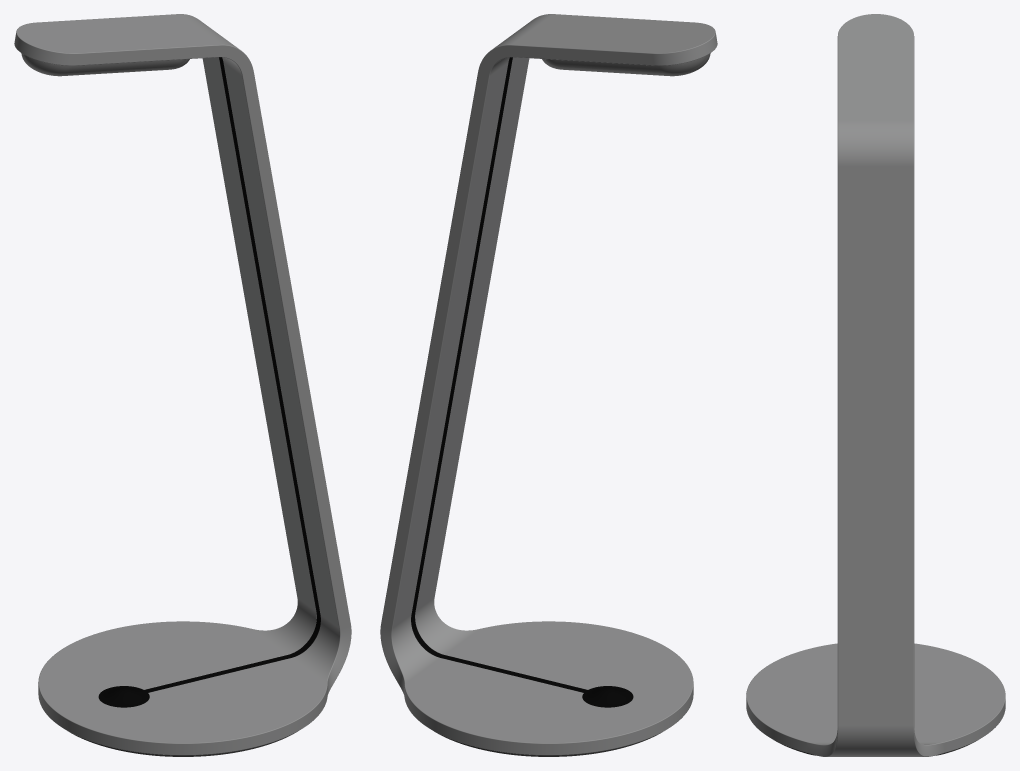
The model's file is lamp.glb.
3 views of the same model, side by side, from view 1: azimuth 30°, elevation 25°; view 2: azimuth 150°, elevation 25°; view 3: azimuth 270°, elevation 25° (orthographic). The views are drawn at different scales.
Parts seen in each view (by area): view 1: bend lamp v3.1 (×3); view 2: bend lamp v3.1 (×3); view 3: bend lamp v3.1.
Boxes of the visible parts, x1=… form: bend lamp v3.1 (×3): x1=14, y1=14, x2=351, y2=755; bend lamp v3.1 (×3): x1=380, y1=14, x2=717, y2=755; bend lamp v3.1: x1=746, y1=14, x2=1005, y2=756.
Size of the model in its own units: 0.1337 by 0.2871 by 0.1079.
8 materials, 5 textured.
